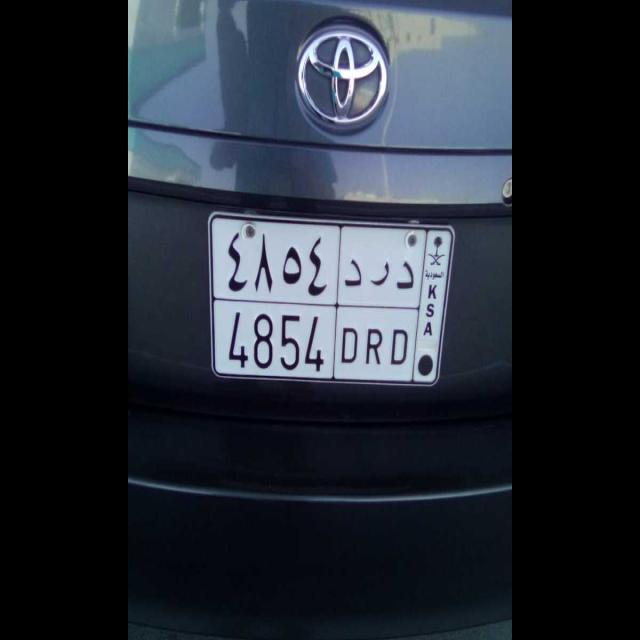license_plate: (215, 299, 415, 389)
